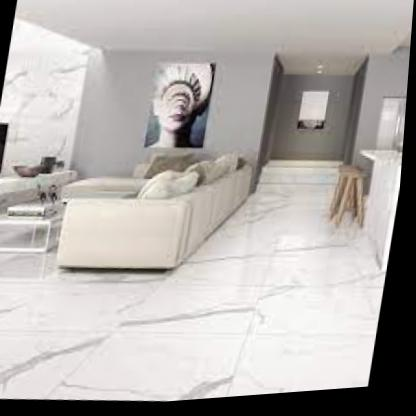Ceramic floor: (0, 250, 390, 404)
Sofa: (61, 158, 256, 272)
